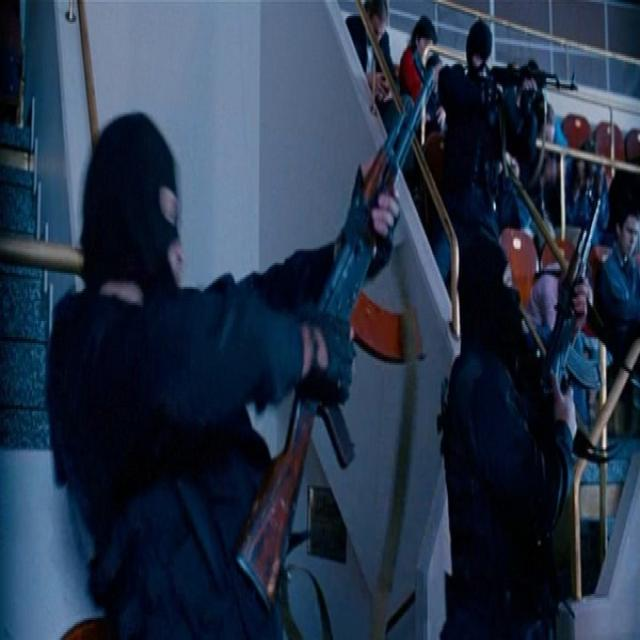rifle: (243, 55, 449, 608)
